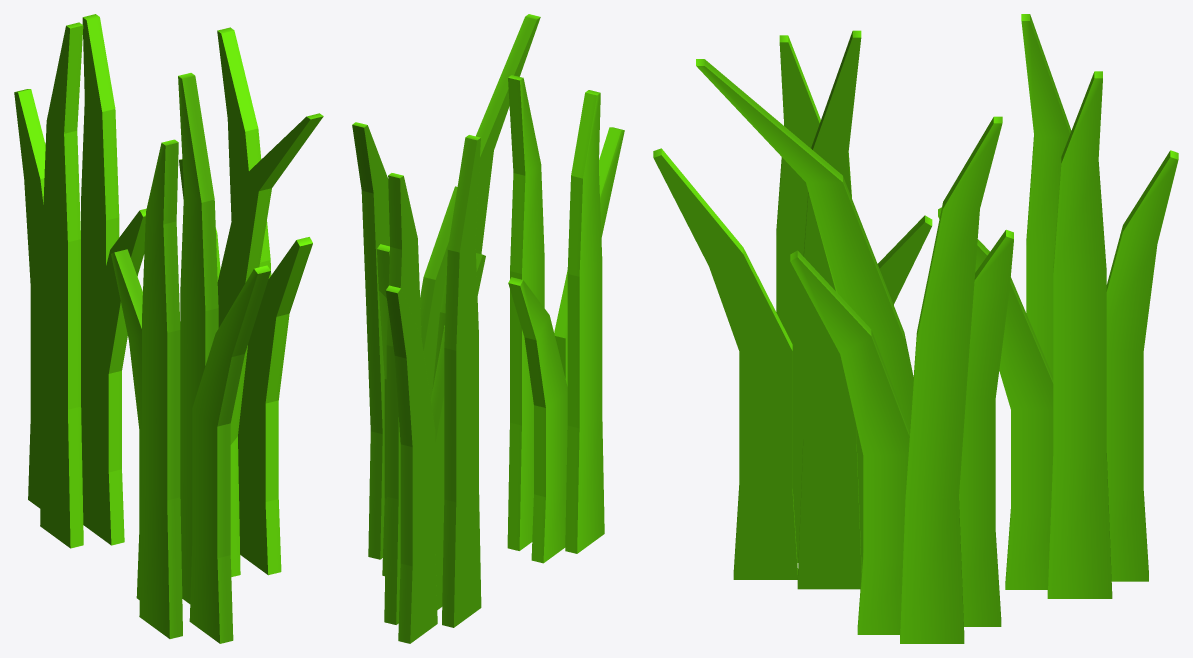
The model's file is GRASS.fbx.
3 renders of one model, left to right at view 1: azimuth 30°, elevation 25°; view 2: azimuth 150°, elevation 25°; view 3: azimuth 270°, elevation 25°, orthographic. The views are drawn at different scales.
Parts seen in each view (by area): view 1: Cube.002; view 2: Cube.002; view 3: Cube.002.
Part boxes in pixels (x1=…): Cube.002: x1=14, y1=14, x2=323, y2=643; Cube.002: x1=352, y1=14, x2=624, y2=643; Cube.002: x1=653, y1=14, x2=1178, y2=643.
Size of the model in its own units: 781 by 2283 by 1970.
Materials: 1 (1 with a texture image).
